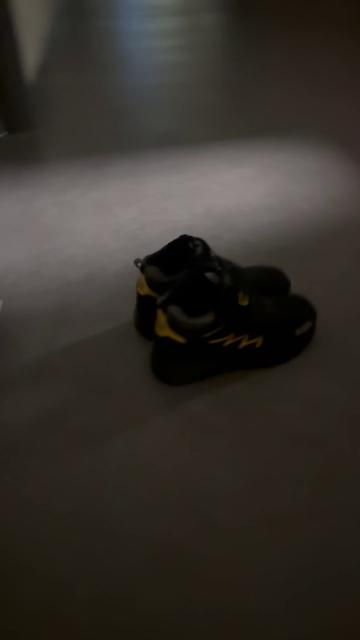shoe_worn: (148, 284, 319, 391), (132, 233, 291, 340)
